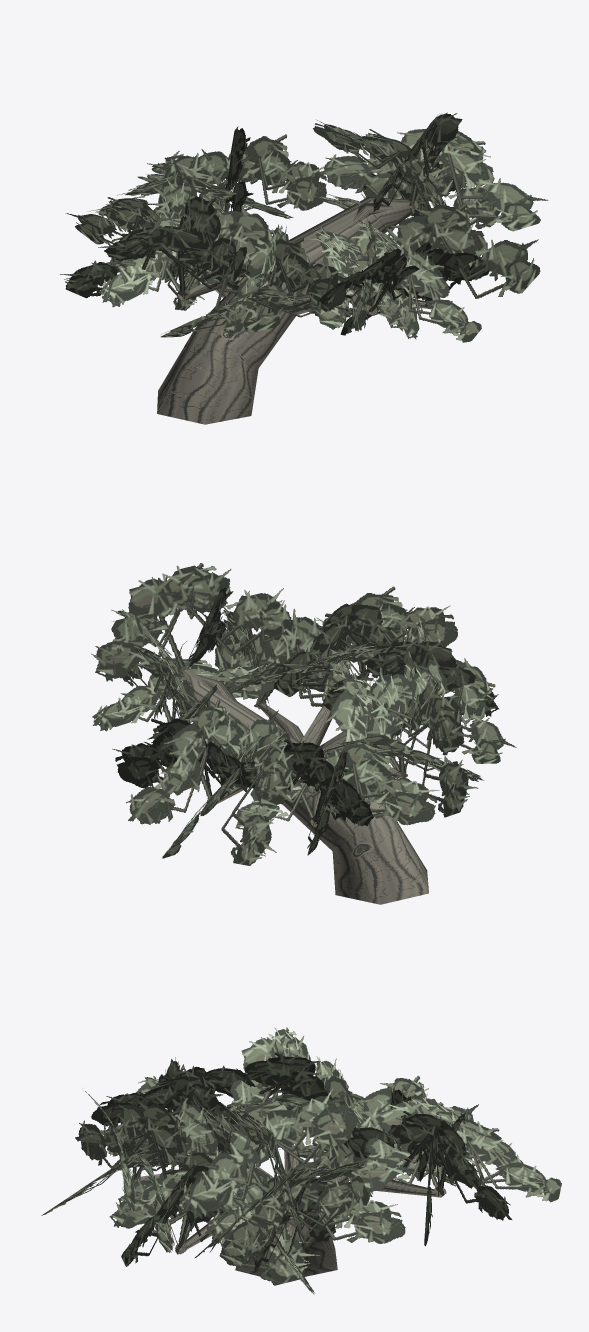
The model's file is tundra-krummholz-near.glb.
3 renders of one model, top to bottom at view 1: azimuth 30°, elevation 25°; view 2: azimuth 150°, elevation 25°; view 3: azimuth 270°, elevation 25°, orthographic.
Visible parts, largest first — view 1: Tundra krummholz near v3 runtime; view 2: Tundra krummholz near v3 runtime; view 3: Tundra krummholz near v3 runtime.
Part boxes in pixels (x1,y1,x2,y2): Tundra krummholz near v3 runtime: (60, 112, 548, 424); Tundra krummholz near v3 runtime: (91, 563, 516, 904); Tundra krummholz near v3 runtime: (41, 1027, 561, 1294).
Size of the model in its own units: 5.24 by 3.19 by 4.9.
Materials: 1 (1 with a texture image).
